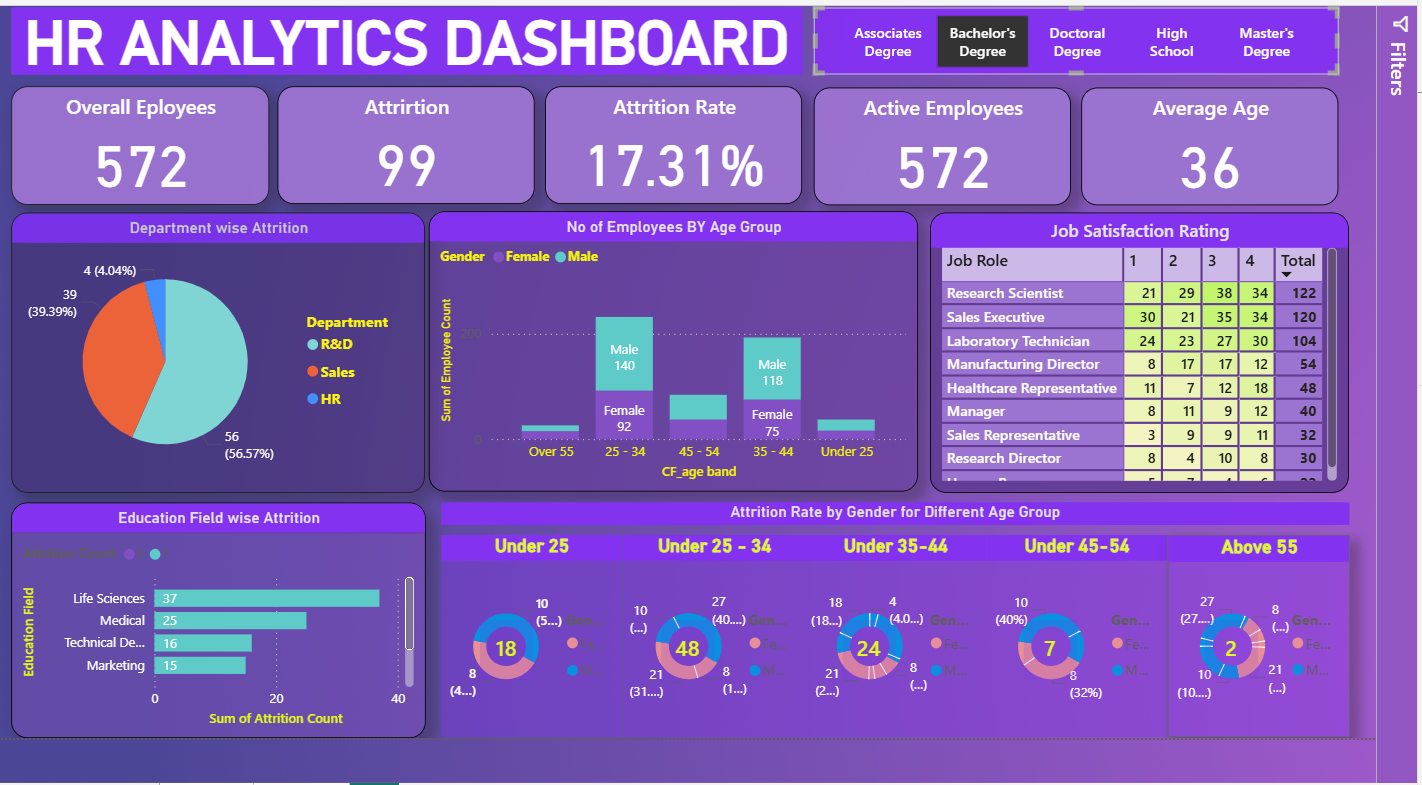

The dashboard page shown, as its layout file describes it:
{"tool":"powerbi","page":{"name":"Page 1","canvas":[1280,720],"ordinal":0},"visuals":[{"type":"card","title":"Overall Eployees","fields":{"Values":["Sum(HR data.Employee Count)"]},"box":[10.5,112.8,240,110],"z":0},{"type":"card","title":"Attrirtion","fields":{"Values":["Sum(HR data.Attrition Count)"]},"box":[258.1,112.8,239.5,109.3],"z":1000},{"type":"card","title":"Attrition Rate","fields":{"Values":["HR data.Attrition Rate"]},"box":[507,112.8,239.5,109.3],"z":2000},{"type":"card","title":"Active Employees","fields":{"Values":["Sum(HR data.Employee Count)"]},"box":[757,114,239.5,109.3],"z":3000},{"type":"card","title":"Average Age","fields":{"Values":["Avg(HR data.Age)"]},"box":[1005.8,114,239.5,109.3],"z":4000},{"type":"pieChart","title":"Department wise Attrition","fields":{"Y":["Sum(HR data.Attrition Count)"],"Category":["HR data.Department"]},"box":[10.5,230.2,384.9,260.5],"z":5000},{"type":"columnChart","title":"No of Employees BY Age Group","fields":{"Category":["HR data.CF_age band"],"Y":["Sum(HR data.Employee Count)"],"Series":["HR data.Gender"]},"box":[399.2,229.3,455.1,260.7],"z":6000},{"type":"pivotTable","title":"Job Satisfaction Rating","fields":{"Rows":["HR data.Job Role"],"Columns":["HR data.Job Satisfaction"],"Values":["Sum(HR data.Employee Count)"]},"box":[864.7,230.4,389.9,260.7],"z":7000},{"type":"barChart","title":"Education Field wise Attrition","fields":{"Category":["HR data.Education Field"],"Series":["HR data.Attrition Count"],"Y":["Sum(HR data.Attrition Count)"]},"box":[10.5,500.5,385.2,218.8],"z":7001},{"type":"donutChart","title":"Under 25","fields":{"Category":["HR data.Gender"],"Y":["Sum(HR data.Attrition Count)"],"Series":["HR data.CF_age band"]},"box":[410.7,530.2,169,188.2],"z":7002},{"type":"textbox","title":"Attrition Rate by Gender for Different Age Group","box":[410.7,500,844.8,20.6],"z":7003},{"type":"donutChart","title":"Under 25 - 34","fields":{"Category":["HR data.Gender"],"Y":["Sum(HR data.Attrition Count)"],"Series":["HR data.CF_age band"]},"box":[579.7,530.2,169,188.2],"z":7004},{"type":"donutChart","title":"Under 35-44","fields":{"Category":["HR data.Gender"],"Y":["Sum(HR data.Attrition Count)"],"Series":["HR data.CF_age band"]},"box":[748.7,530.2,169,188.2],"z":7005},{"type":"donutChart","title":"Under 45-54","fields":{"Category":["HR data.Gender"],"Y":["Sum(HR data.Attrition Count)"],"Series":["HR data.CF_age band"]},"box":[917.6,530.2,169,188.2],"z":7006},{"type":"donutChart","title":"Above 55","fields":{"Category":["HR data.Gender"],"Y":["Sum(HR data.Attrition Count)"],"Series":["HR data.CF_age band"]},"box":[1086,530.2,169.8,188.4],"z":7007},{"type":"card","fields":{"Values":["Sum(HR data.Attrition Count)"]},"box":[446,609.3,49.4,54.9],"z":7008},{"type":"card","fields":{"Values":["Sum(HR data.Attrition Count)"]},"box":[614.8,609.3,49.4,54.9],"z":7009},{"type":"card","fields":{"Values":["Sum(HR data.Attrition Count)"]},"box":[783.5,609.3,49.4,54.9],"z":7010},{"type":"card","fields":{"Values":["Sum(HR data.Attrition Count)"]},"box":[952.3,609.3,49.4,54.9],"z":7011},{"type":"card","fields":{"Values":["Sum(HR data.Attrition Count)"]},"box":[1121.1,609.3,49.4,54.9],"z":7012},{"type":"textbox","title":"HR ANALYTICS  DASHBOARD","box":[10.5,39.5,736,62.8],"z":7013},{"type":"slicer","fields":{"Values":["HR data.Education"]},"box":[757,39.5,488.4,62.8],"z":7014}]}

Visuals, with their boxes in screenshot pixels (x1, y1, x2, y2), scaled from the page's 1280x720 canvas onto the 1422x785 screenshot:
"Overall Eployees" card: (left=12, top=123, right=278, bottom=243)
"Attrirtion" card: (left=287, top=123, right=553, bottom=242)
"Attrition Rate" card: (left=563, top=123, right=829, bottom=242)
"Active Employees" card: (left=841, top=124, right=1107, bottom=243)
"Average Age" card: (left=1117, top=124, right=1383, bottom=243)
"Department wise Attrition" pieChart: (left=12, top=251, right=439, bottom=535)
"No of Employees BY Age Group" columnChart: (left=443, top=250, right=949, bottom=534)
"Job Satisfaction Rating" pivotTable: (left=961, top=251, right=1394, bottom=535)
"Education Field wise Attrition" barChart: (left=12, top=546, right=440, bottom=784)
"Under 25" donutChart: (left=456, top=578, right=644, bottom=783)
"Attrition Rate by Gender for Different Age Group" textbox: (left=456, top=545, right=1395, bottom=568)
"Under 25 - 34" donutChart: (left=644, top=578, right=832, bottom=783)
"Under 35-44" donutChart: (left=832, top=578, right=1020, bottom=783)
"Under 45-54" donutChart: (left=1019, top=578, right=1207, bottom=783)
"Above 55" donutChart: (left=1206, top=578, right=1395, bottom=783)
card - Sum(HR data.Attrition Count): (left=495, top=664, right=550, bottom=724)
card - Sum(HR data.Attrition Count): (left=683, top=664, right=738, bottom=724)
card - Sum(HR data.Attrition Count): (left=870, top=664, right=925, bottom=724)
card - Sum(HR data.Attrition Count): (left=1058, top=664, right=1113, bottom=724)
card - Sum(HR data.Attrition Count): (left=1245, top=664, right=1300, bottom=724)
"HR ANALYTICS  DASHBOARD" textbox: (left=12, top=43, right=829, bottom=112)
slicer - HR data.Education: (left=841, top=43, right=1384, bottom=112)
